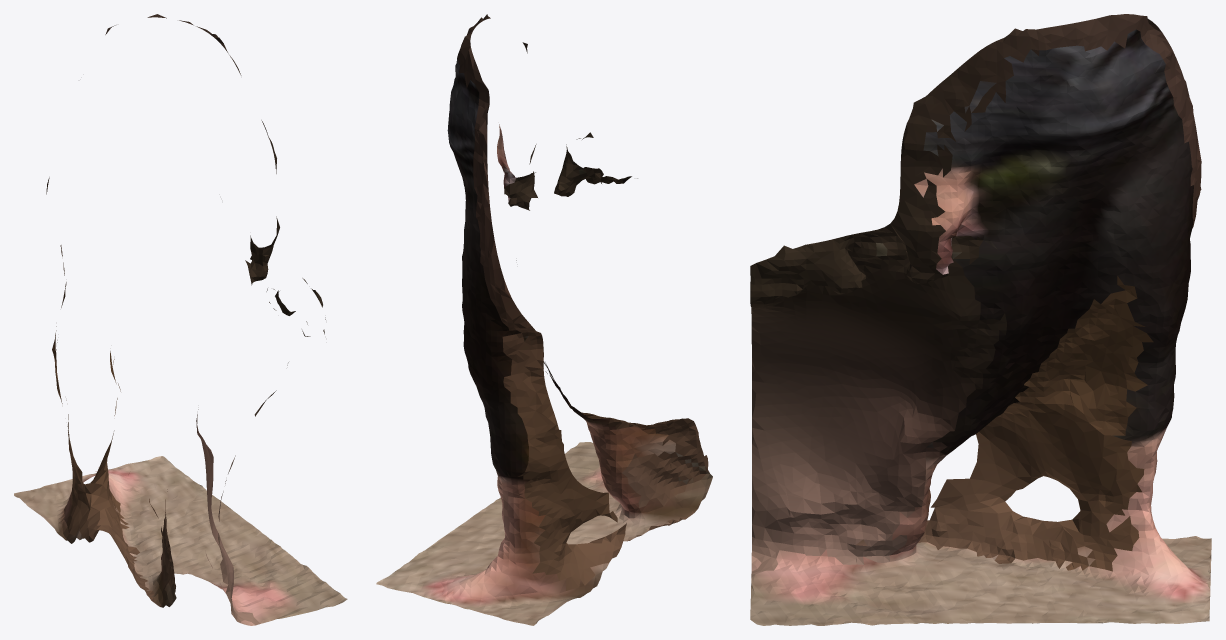
3 renders of one model, left to right at view 1: azimuth 30°, elevation 25°; view 2: azimuth 150°, elevation 25°; view 3: azimuth 270°, elevation 25°, orthographic. The views are drawn at different scales.
Size of the model in its own units: 0.352 by 1.09 by 0.7717.
Materials: 1 (1 with a texture image).
